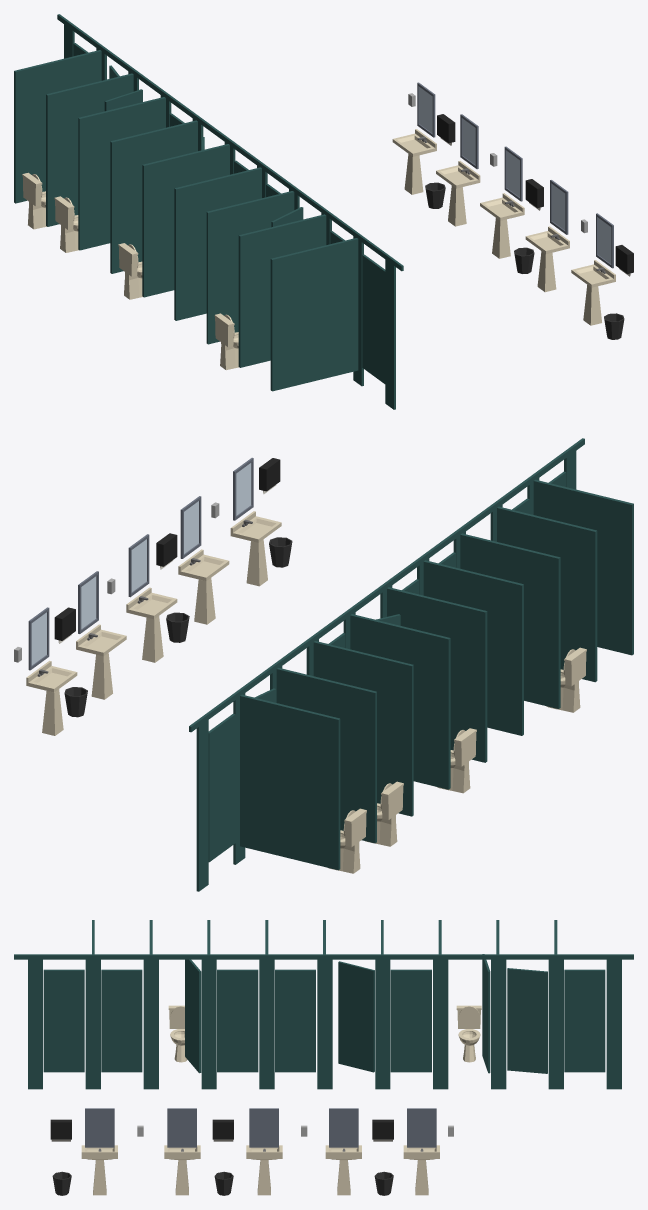
File: Bathroom.fbx
The picture shows the model from 3 angles, top to bottom: view 1: azimuth 30°, elevation 25°; view 2: azimuth 150°, elevation 25°; view 3: azimuth 270°, elevation 25°; orthographic projection. The views are drawn at different scales.
Parts seen in each view (by area): view 1: Bathroom stalls.003, Bathroom stalls.004, Bathroom stalls.007, Bathroom stalls.009, Bathroom stalls.006, Bathroom stalls.008, Bathroom stalls.002, Bathroom stalls.005, Bathroom stalls.010, Bathroom stalls, Bathroom stalls.012, Bathroom stalls.001 (+14 smaller); view 2: Bathroom stalls.002, Bathroom stalls.008, Bathroom stalls.003, Bathroom stalls.005, Bathroom stalls.006, Bathroom stalls.004, Bathroom stalls.007, Bathroom stalls.010, Bathroom stalls.009, Bathroom stalls, Bathroom stalls.011, Bathroom stalls.001 (+14 smaller); view 3: Bathroom stalls, Bathroom stalls.011, Bathroom stalls.012, Bathroom stalls.013, Bathroom stalls.015, Bathroom stalls.018, Bathroom stalls.016, Bathroom stalls.020, Bathroom stalls.017, Bathroom stalls.001, Bathroom stalls.014, Bathroom mirror.004 (+15 smaller).
Boxes of the visible parts, box(x1,y1,x2,y2) form: Bathroom stalls.003: box(270, 238, 358, 391); Bathroom stalls.004: box(238, 214, 326, 367); Bathroom stalls.007: box(142, 144, 229, 297); Bathroom stalls.009: box(78, 97, 165, 250); Bathroom stalls.006: box(174, 167, 261, 320); Bathroom stalls.008: box(110, 120, 197, 273); Bathroom stalls.002: box(14, 50, 101, 203); Bathroom stalls.005: box(206, 191, 294, 344); Bathroom stalls.010: box(46, 73, 133, 226); Bathroom stalls: box(64, 24, 395, 409); Bathroom stalls.012: box(362, 254, 385, 383); Bathroom stalls.001: box(57, 14, 403, 271); Bathroom stalls.002: box(240, 694, 340, 870); Bathroom stalls.008: box(350, 614, 450, 789); Bathroom stalls.003: box(533, 479, 633, 655); Bathroom stalls.005: box(460, 533, 560, 708); Bathroom stalls.006: box(423, 560, 523, 735); Bathroom stalls.004: box(497, 506, 597, 682); Bathroom stalls.007: box(387, 587, 487, 762); Bathroom stalls.010: box(276, 668, 376, 843); Bathroom stalls.009: box(313, 641, 413, 816); Bathroom stalls: box(196, 451, 576, 891); Bathroom stalls.011: box(208, 714, 235, 862); Bathroom stalls.001: box(189, 438, 584, 732); Bathroom stalls: box(28, 959, 621, 1089); Bathroom stalls.011: box(564, 969, 605, 1072); Bathroom stalls.012: box(43, 969, 84, 1072); Bathroom stalls.013: box(101, 969, 142, 1072); Bathroom stalls.015: box(217, 969, 258, 1072); Bathroom stalls.018: box(390, 969, 431, 1072); Bathroom stalls.016: box(275, 969, 315, 1072); Bathroom stalls.020: box(507, 968, 547, 1073); Bathroom stalls.017: box(338, 961, 374, 1072); Bathroom stalls.001: box(14, 954, 633, 959); Bathroom stalls.014: box(185, 959, 201, 1073); Bathroom mirror.004: box(407, 1108, 436, 1147).
Bounding box in the file's own units: 954 × 397 × 1660.
